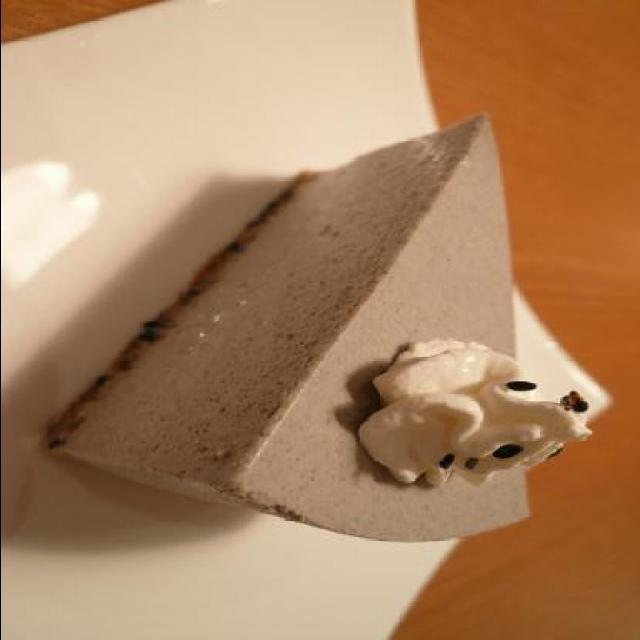Rare cheese cake: (40, 101, 582, 568)
